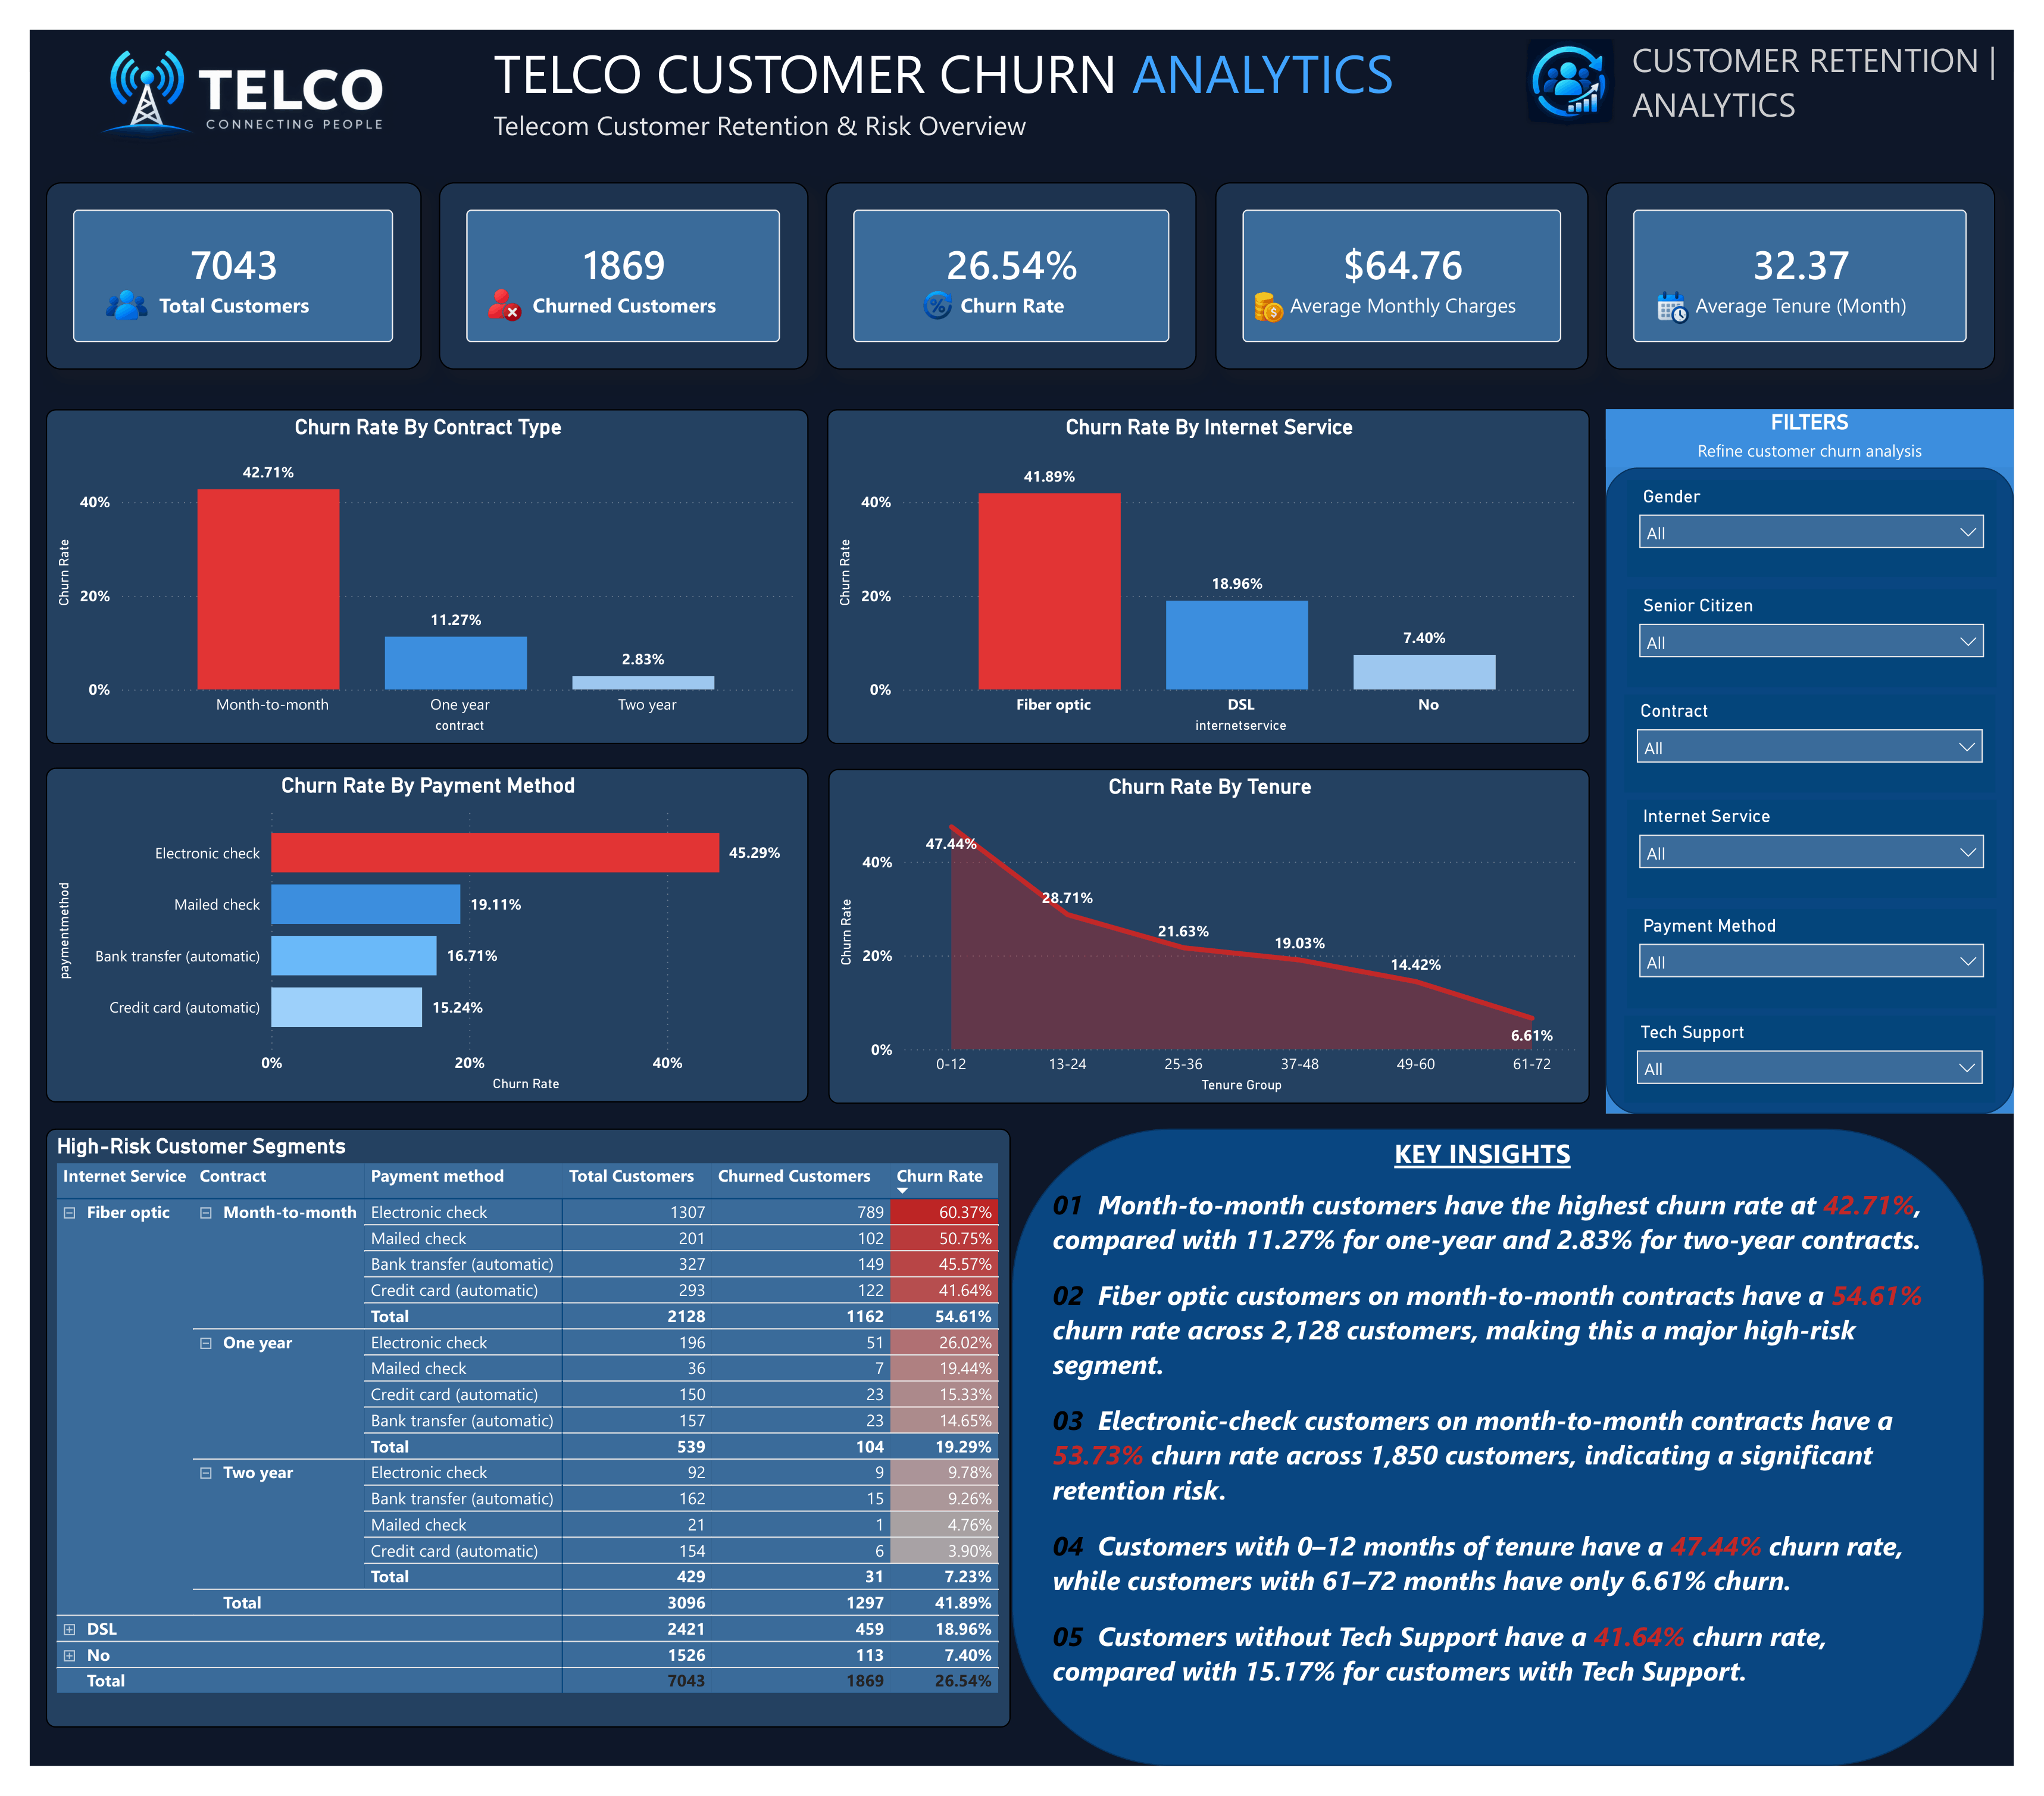

Layout of this report page (visuals, bound fields, positions):
{"tool":"powerbi","page":{"name":"Page 1","canvas":[1600,1400],"ordinal":0},"visuals":[{"type":"textbox","box":[368.6,0,829.4,103.9],"z":0},{"type":"textbox","box":[1286.9,0,313.3,103.9],"z":1000},{"type":"image","box":[0,0,368.6,103.9],"z":2000},{"type":"image","box":[1137.7,0,209.5,87.1],"z":3000},{"type":"cardVisual","fields":{"Data":["telco_churn.Total Customers"]},"box":[12.6,122.6,303,151.5],"z":4000},{"type":"cardVisual","fields":{"Data":["telco_churn.Churned Customers"]},"box":[330,122.6,297.6,151.5],"z":5000},{"type":"cardVisual","fields":{"Data":["telco_churn.Churn Rate"]},"box":[642,122.6,299.4,151.5],"z":6000},{"type":"cardVisual","fields":{"Data":["telco_churn.Average Monthly Charges"]},"box":[955.8,122.6,301.2,151.5],"z":7000},{"type":"cardVisual","fields":{"Data":["telco_churn.Average Tenure"]},"box":[1271.4,122.6,313.8,151.5],"z":8000},{"type":"image","box":[361.9,205.2,43.2,37.7],"z":9000},{"type":"image","box":[59,205.2,41.4,33.8],"z":10000},{"type":"image","box":[717.6,207.9,30.9,28.5],"z":11000},{"type":"image","box":[984,207.7,31.3,31.3],"z":12000},{"type":"image","box":[1308.5,207.5,31.5,31.5],"z":13000},{"type":"clusteredColumnChart","title":"Churn Rate By Contract Type","fields":{"Category":["telco_churn.contract"],"Y":["telco_churn.Churn Rate"]},"box":[12.5,306.2,615,270],"z":14000},{"type":"clusteredColumnChart","title":"Churn Rate By Internet Service","fields":{"Y":["telco_churn.Churn Rate"],"Category":["telco_churn.internetservice"]},"box":[642.5,306.2,615,270],"z":15000},{"type":"clusteredBarChart","title":"Churn Rate By Payment Method","fields":{"Category":["telco_churn.paymentmethod"],"Y":["telco_churn.Churn Rate"]},"box":[12.5,595,615,270],"z":16000},{"type":"lineChart","title":"Churn Rate By Tenure","fields":{"Y":["telco_churn.Churn Rate"],"Category":["telco_churn.Tenure Group"]},"box":[644,596,614,270],"z":17000},{"type":"pivotTable","title":"High-Risk Customer Segments","fields":{"Rows":["telco_churn.internetservice","telco_churn.contract","telco_churn.paymentmethod"],"Values":["telco_churn.Total Customers","telco_churn.Churned Customers","telco_churn.Churn Rate"]},"box":[12.9,885.7,778.6,482.9],"z":18000},{"type":"shape","title":"FILTERS","box":[1271.2,306.2,328.8,567.5],"z":19000},{"type":"slicer","fields":{"Values":["telco_churn.gender"]},"box":[1287.5,362.5,298.8,78.8],"z":20000},{"type":"slicer","fields":{"Values":["telco_churn.Senior Citizen Label"]},"box":[1287.5,451.2,298.8,78.8],"z":21000},{"type":"slicer","fields":{"Values":["telco_churn.contract"]},"box":[1286.2,536.2,298.8,78.8],"z":22000},{"type":"slicer","fields":{"Values":["telco_churn.internetservice"]},"box":[1287.5,621.2,298.8,78.8],"z":23000},{"type":"slicer","fields":{"Values":["telco_churn.paymentmethod"]},"box":[1287.5,708.8,298.8,80],"z":24000},{"type":"slicer","fields":{"Values":["telco_churn.techsupport"]},"box":[1286.2,795,298.8,70],"z":25000},{"type":"shape","box":[792,886,784,514],"z":26000},{"type":"textbox","box":[1035,886,273,41],"z":27000},{"type":"textbox","box":[820,927,721,452],"z":28000}]}

Visuals, with their boxes on the page's 1600x1400 design canvas (x1, y1, x2, y2). These are canvas units, not pixel positions in the 2044x1796 screenshot, which may show the page scaled, cropped or inside an application window:
textbox: (369, 0, 1198, 104)
textbox: (1287, 0, 1600, 104)
image: (0, 0, 369, 104)
image: (1138, 0, 1347, 87)
cardVisual - telco_churn.Total Customers: (13, 123, 316, 274)
cardVisual - telco_churn.Churned Customers: (330, 123, 628, 274)
cardVisual - telco_churn.Churn Rate: (642, 123, 941, 274)
cardVisual - telco_churn.Average Monthly Charges: (956, 123, 1257, 274)
cardVisual - telco_churn.Average Tenure: (1271, 123, 1585, 274)
image: (362, 205, 405, 243)
image: (59, 205, 100, 239)
image: (718, 208, 748, 236)
image: (984, 208, 1015, 239)
image: (1308, 208, 1340, 239)
"Churn Rate By Contract Type" clusteredColumnChart: (12, 306, 628, 576)
"Churn Rate By Internet Service" clusteredColumnChart: (642, 306, 1258, 576)
"Churn Rate By Payment Method" clusteredBarChart: (12, 595, 628, 865)
"Churn Rate By Tenure" lineChart: (644, 596, 1258, 866)
"High-Risk Customer Segments" pivotTable: (13, 886, 792, 1369)
"FILTERS" shape: (1271, 306, 1600, 874)
slicer - telco_churn.gender: (1288, 362, 1586, 441)
slicer - telco_churn.Senior Citizen Label: (1288, 451, 1586, 530)
slicer - telco_churn.contract: (1286, 536, 1585, 615)
slicer - telco_churn.internetservice: (1288, 621, 1586, 700)
slicer - telco_churn.paymentmethod: (1288, 709, 1586, 789)
slicer - telco_churn.techsupport: (1286, 795, 1585, 865)
shape: (792, 886, 1576, 1400)
textbox: (1035, 886, 1308, 927)
textbox: (820, 927, 1541, 1379)
